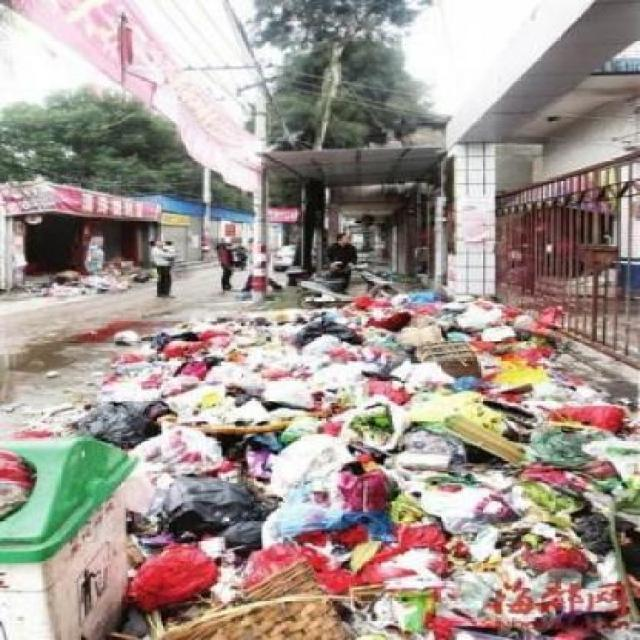garbage: (132, 317, 506, 640), (74, 385, 632, 467), (476, 454, 639, 580), (359, 291, 506, 331)
